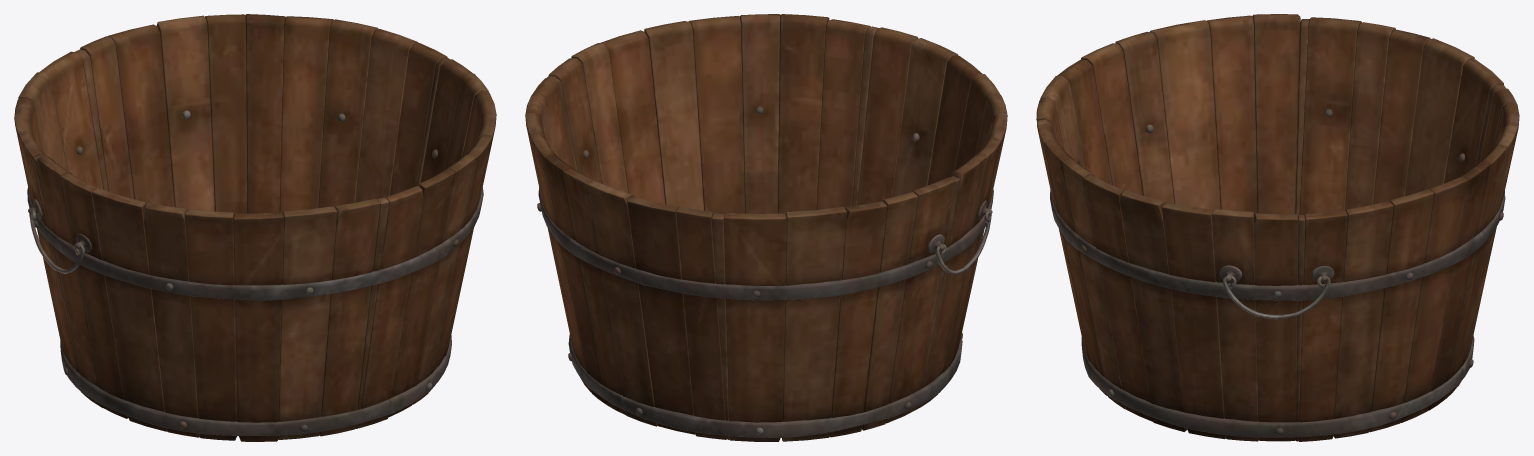
The model's file is wooden_bucket_02.glb.
The picture shows the model from 3 angles, left to right: view 1: azimuth 30°, elevation 25°; view 2: azimuth 150°, elevation 25°; view 3: azimuth 270°, elevation 25°; orthographic projection.
Parts seen in each view (by area): view 1: wooden_bucket_02; view 2: wooden_bucket_02; view 3: wooden_bucket_02.
Part boxes in pixels (x1,y1,x2,y2): wooden_bucket_02: (14,14,496,441); wooden_bucket_02: (525,14,1007,441); wooden_bucket_02: (1036,14,1519,441).
Bounding box in the file's own units: 0.6153 × 0.3504 × 0.6163.
1 material, 1 textured.
